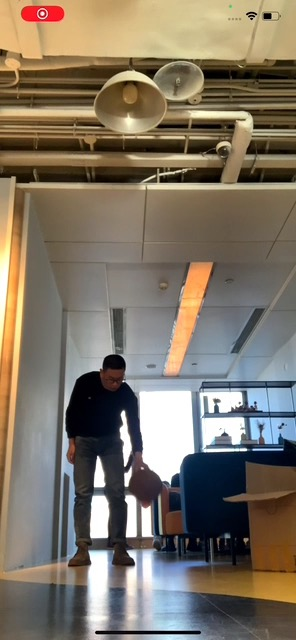ball: (129, 469, 163, 504)
